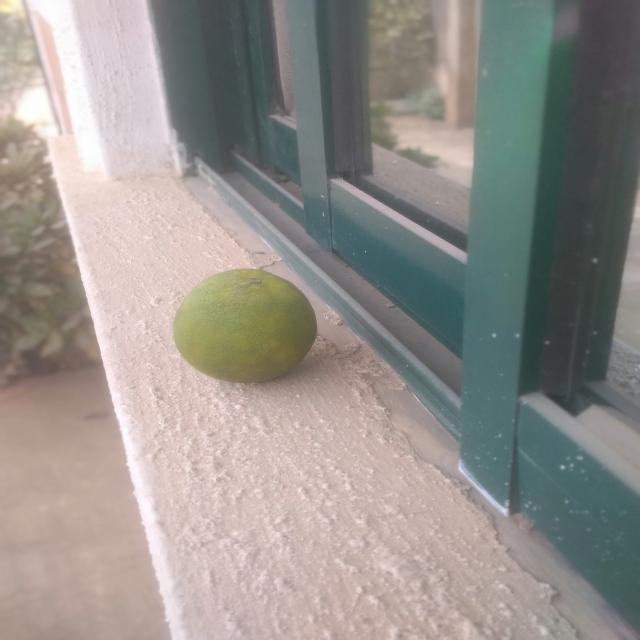Unripe: (128, 233, 361, 406)
